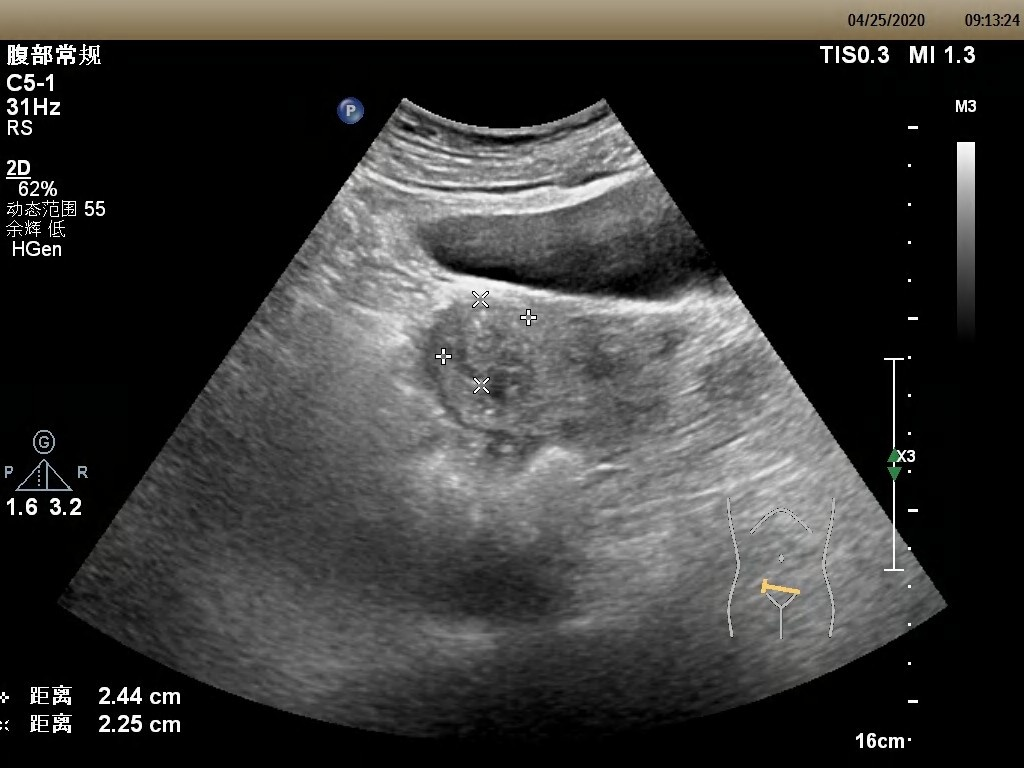肌瘤: (444, 297, 530, 387)
